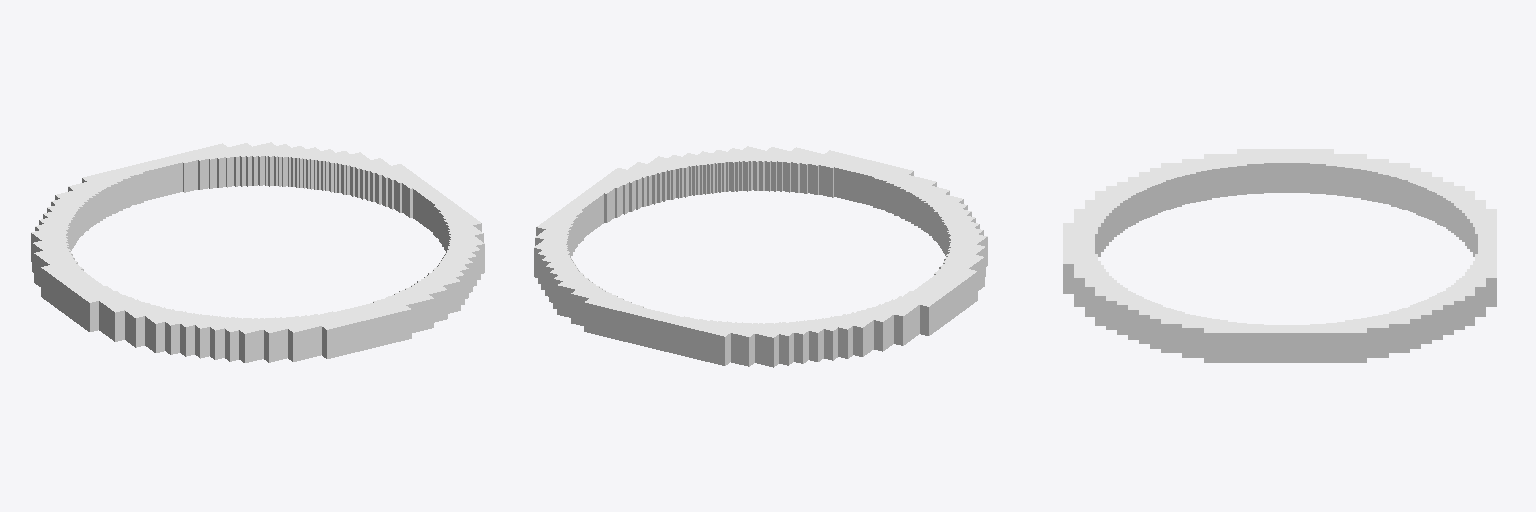
File: Krug.obj
The picture shows the model from 3 angles: view 1: azimuth 30°, elevation 25°; view 2: azimuth 150°, elevation 25°; view 3: azimuth 270°, elevation 25°; orthographic projection.
Parts seen in each view (by area): view 1: object 1; view 2: object 1; view 3: object 1.
Part boxes in pixels (left/top/right/bottom): object 1: left=31, top=142, right=484, bottom=362; object 1: left=534, top=146, right=987, bottom=367; object 1: left=1063, top=149, right=1496, bottom=362.
Bounding box in the file's own units: 16 × 1.2 × 16.